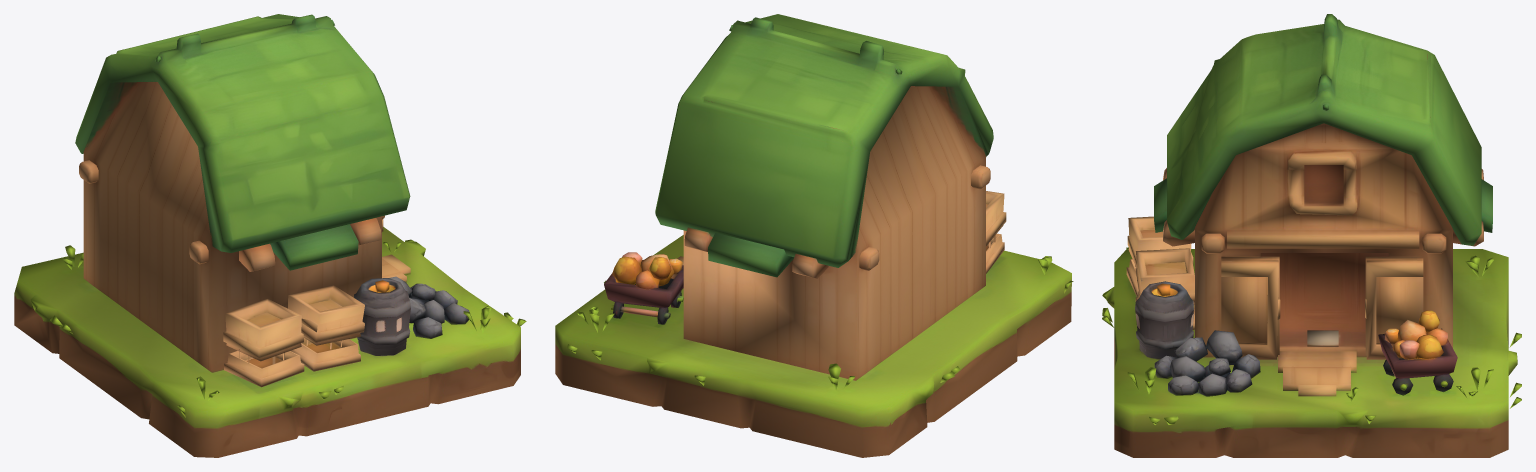
Rendered from deposito.glb.
The picture shows the model from 3 angles, left to right: view 1: azimuth 30°, elevation 25°; view 2: azimuth 150°, elevation 25°; view 3: azimuth 270°, elevation 25°; orthographic projection.
Parts seen in each view (by area): view 1: tripo_node_b868ebfc-5229-4432-ba99-c4397aa72c54; view 2: tripo_node_b868ebfc-5229-4432-ba99-c4397aa72c54; view 3: tripo_node_b868ebfc-5229-4432-ba99-c4397aa72c54.
Boxes of the visible parts, box(x1,y1,x2,y2) form: tripo_node_b868ebfc-5229-4432-ba99-c4397aa72c54: box(14, 14, 526, 457); tripo_node_b868ebfc-5229-4432-ba99-c4397aa72c54: box(555, 14, 1073, 457); tripo_node_b868ebfc-5229-4432-ba99-c4397aa72c54: box(1102, 14, 1521, 457).
Size of the model in its own units: 0.9863 by 0.8535 by 0.998.
1 material, 1 textured.
